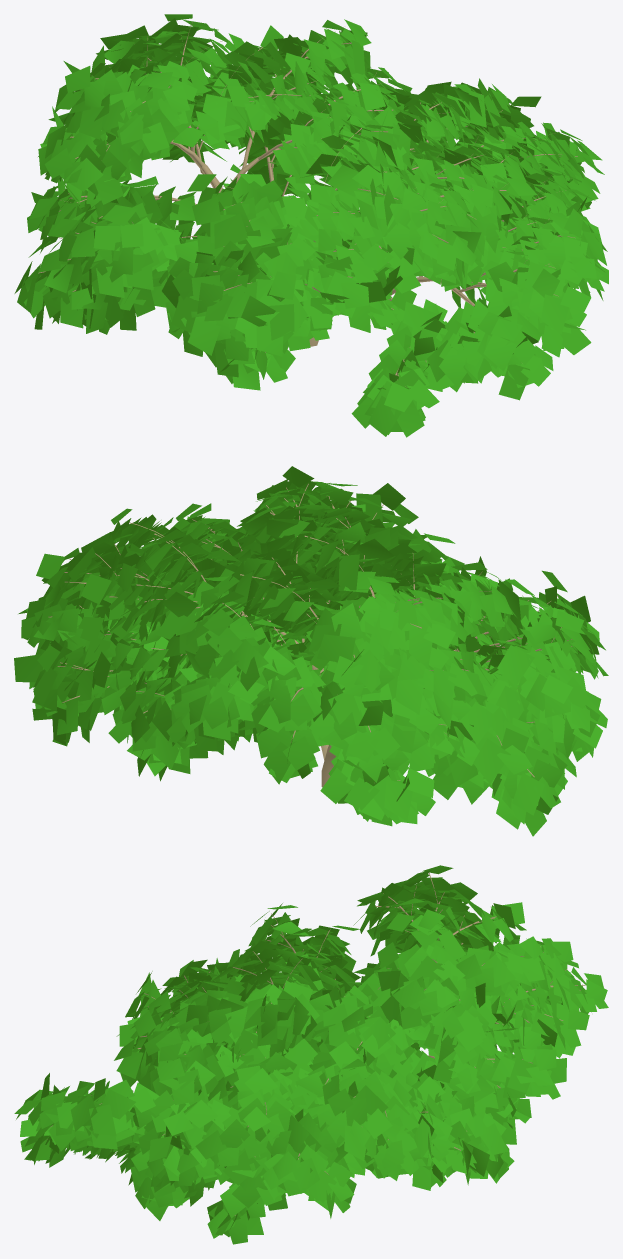
Rendered from testing_grounds_tree.dae.
3 renders of one model, top to bottom at view 1: azimuth 30°, elevation 25°; view 2: azimuth 150°, elevation 25°; view 3: azimuth 270°, elevation 25°, orthographic. The views are drawn at different scales.
Parts seen in each view (by area): view 1: Leaves, Branches; view 2: Leaves, Branches; view 3: Leaves, Branches.
Part boxes in pixels (x1,y1,x2,y2): Leaves: (14,14,608,437); Branches: (38,22,577,386); Leaves: (14,466,608,836); Branches: (48,483,572,787); Leaves: (14,865,608,1244); Branches: (47,872,585,1215).
Size of the model in its own units: 11.19 by 11.6 by 5.29.
